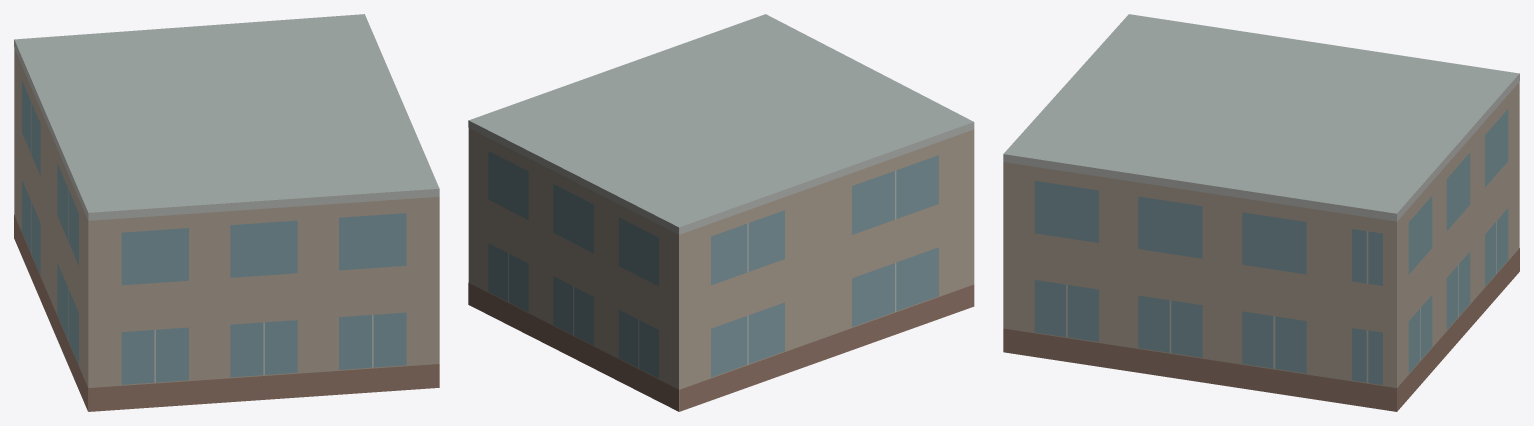
Rendered from survey-upis-32981629.glb.
3 views of the same model, side by side, from view 1: azimuth 30°, elevation 25°; view 2: azimuth 150°, elevation 25°; view 3: azimuth 270°, elevation 25° (orthographic). The views are drawn at different scales.
Parts seen in each view (by area): view 1: survey-upis-32981629.tmp; view 2: survey-upis-32981629.tmp; view 3: survey-upis-32981629.tmp.
Boxes of the visible parts, x1=… form: survey-upis-32981629.tmp: x1=14, y1=14, x2=439, y2=411; survey-upis-32981629.tmp: x1=468, y1=14, x2=974, y2=411; survey-upis-32981629.tmp: x1=1003, y1=14, x2=1519, y2=411.
Size of the model in its own units: 13.2 by 6.1 by 14.42.
